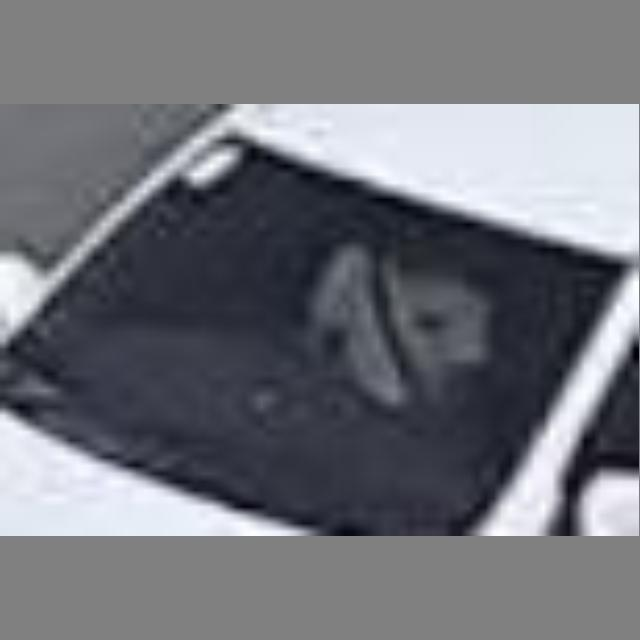pakai: (291, 212, 490, 412)
